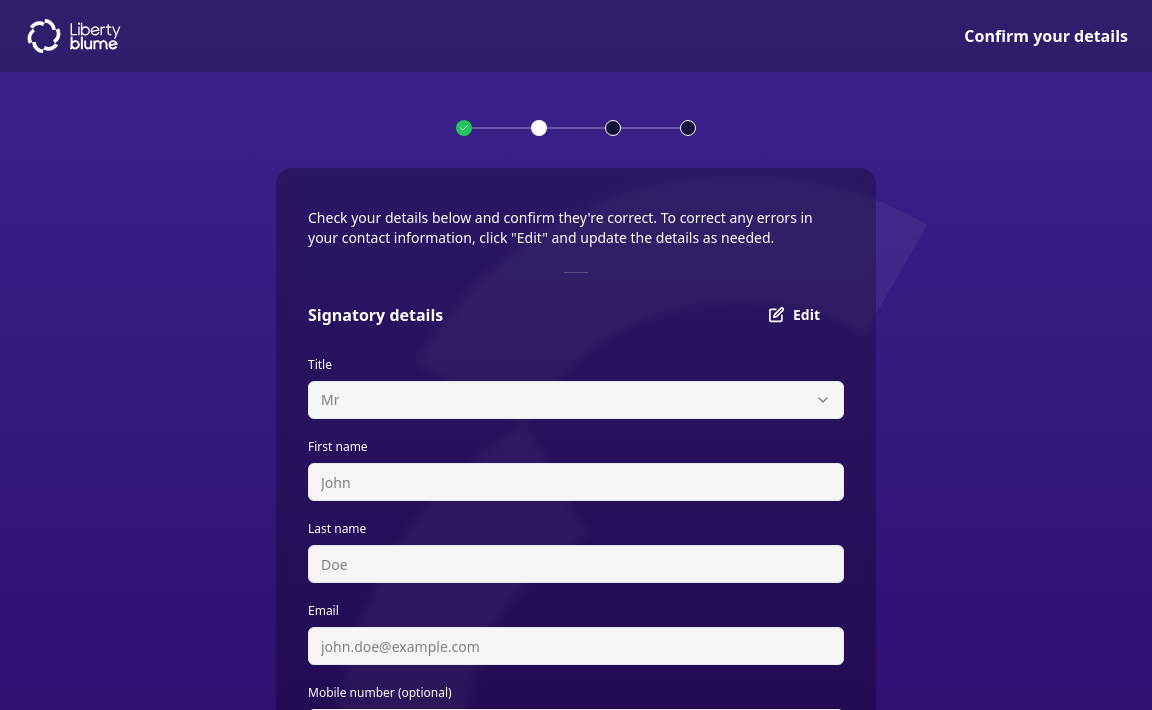
Scenario: ConfirmDetails › address line 3 and county fields › renders Address line 3 field in edit mode
Step 1. Click the button "Edit" → point(794, 315), box [745, 297, 844, 333]
(page scrolled)
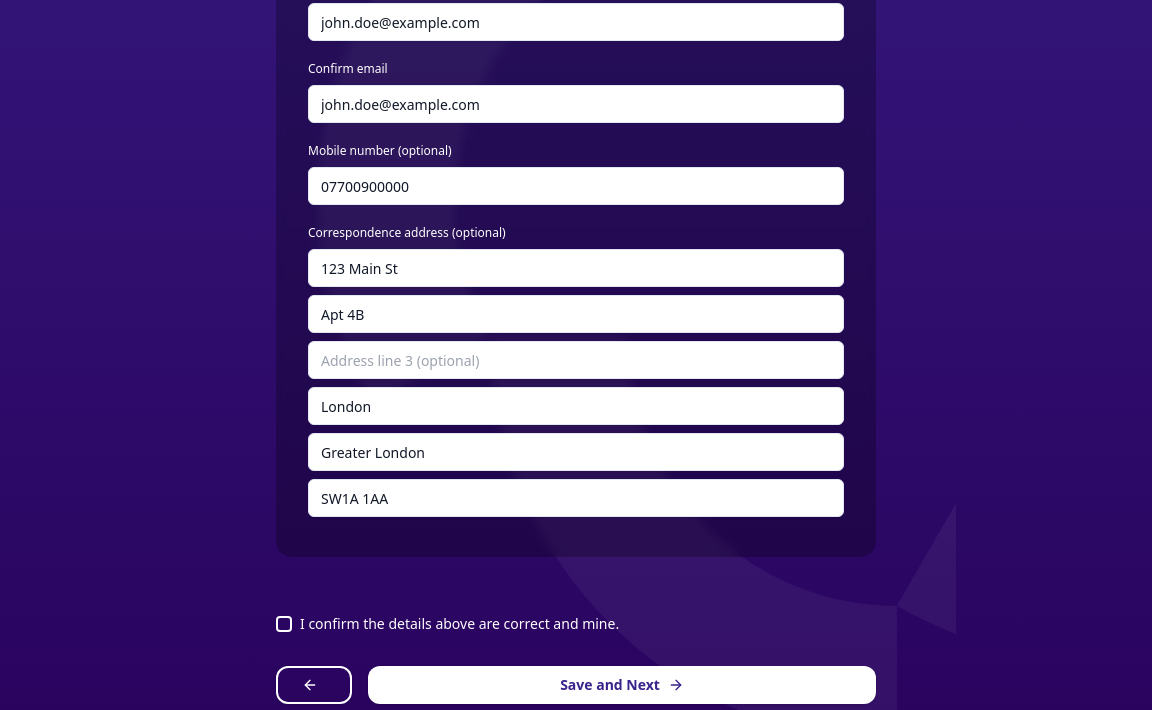
Expected: the field with placeholder "Address line 3 (optional)" is shown, [308, 341, 844, 379]
